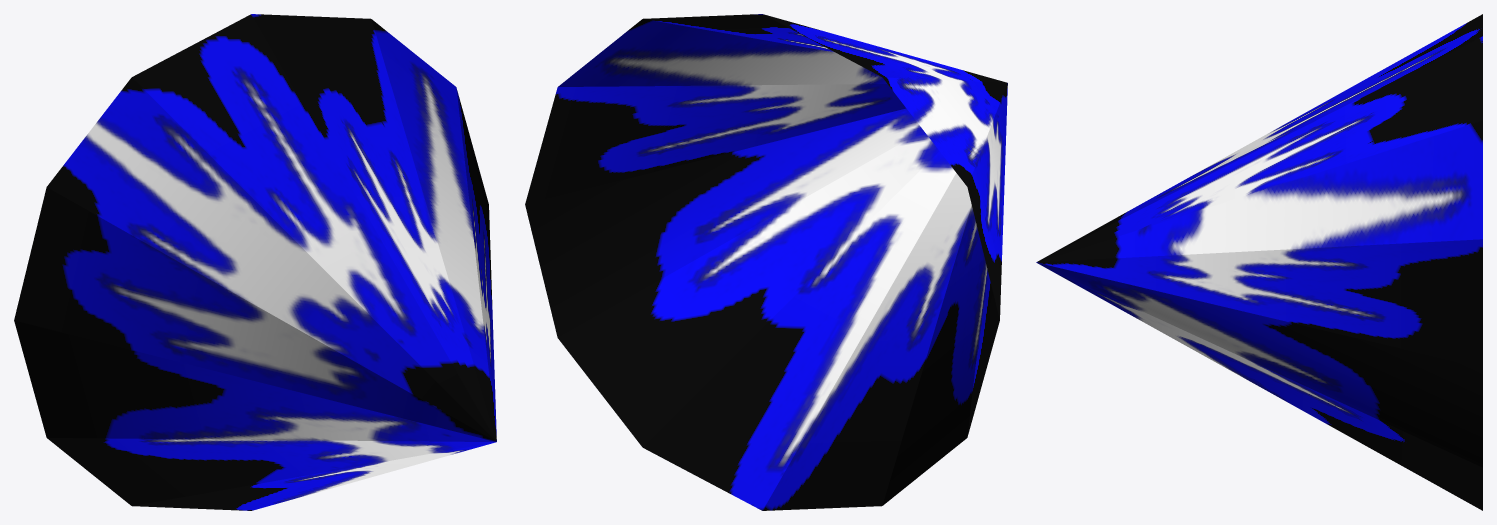
The model's file is E_Novicesword02_trail_1.FBX.
The picture shows the model from 3 angles, left to right: view 1: azimuth 30°, elevation 25°; view 2: azimuth 150°, elevation 25°; view 3: azimuth 270°, elevation 25°; orthographic projection. The views are drawn at different scales.
Visible parts, largest first — view 1: E_Novicesword02_trail_1; view 2: E_Novicesword02_trail_1; view 3: E_Novicesword02_trail_1.
Part boxes in pixels (x1=…): E_Novicesword02_trail_1: x1=14, y1=14, x2=496, y2=510; E_Novicesword02_trail_1: x1=525, y1=14, x2=1007, y2=510; E_Novicesword02_trail_1: x1=1036, y1=14, x2=1482, y2=510.
Size of the model in its own units: 143 by 143 by 128.
